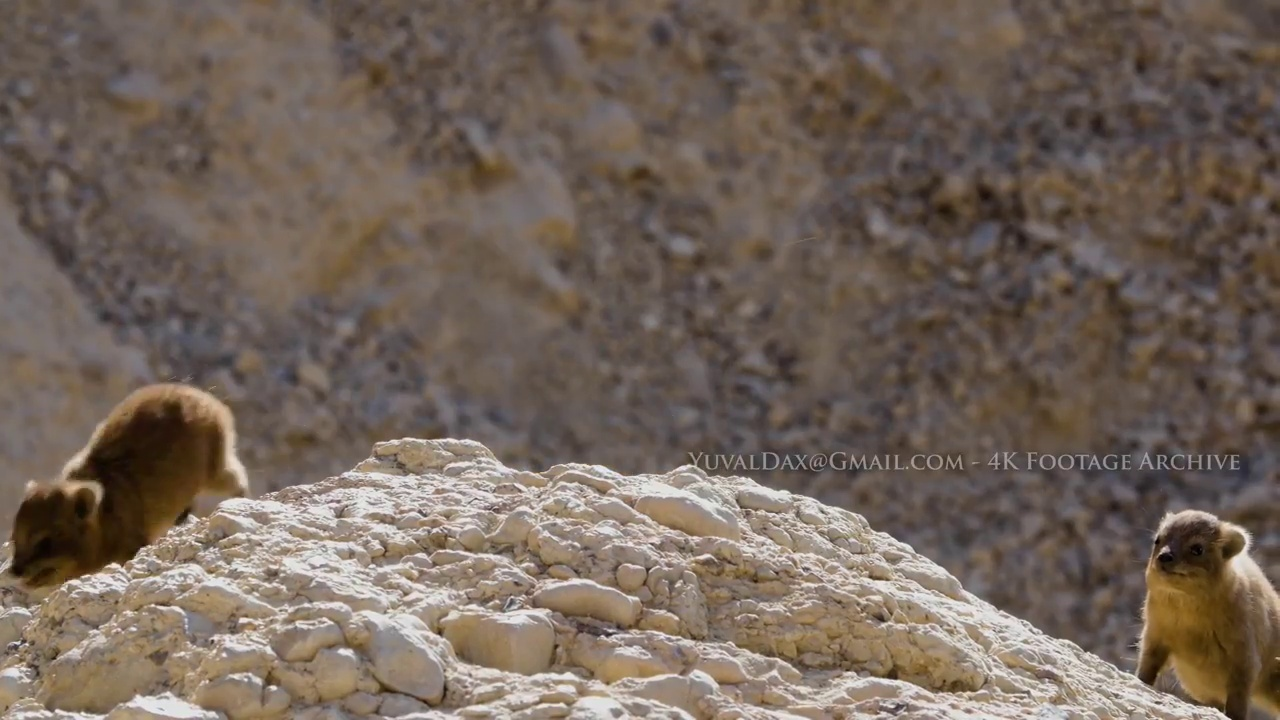Rock Hyrex: (7, 381, 247, 593), (1138, 508, 1280, 718)
